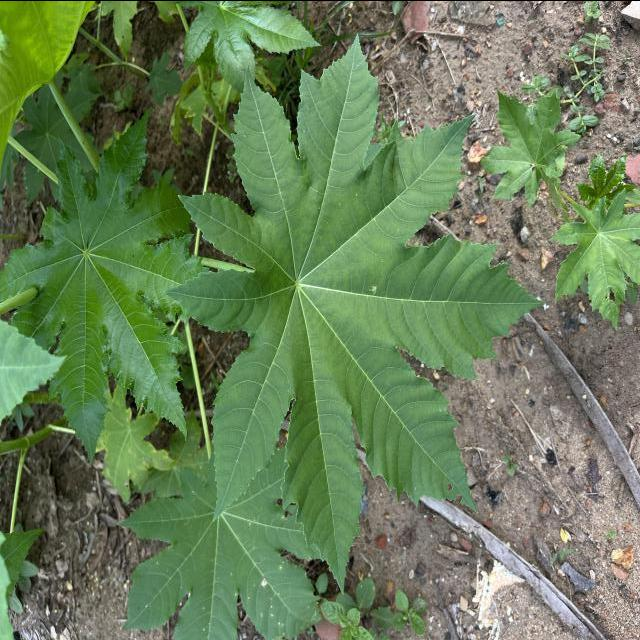Ricinus communis linn: (157, 17, 551, 601)
